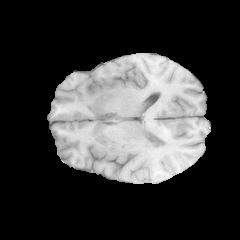glioma: (97, 116, 168, 159)
